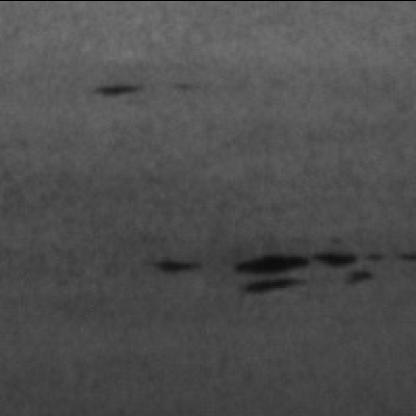inclusion: (235, 250, 416, 298), (90, 79, 150, 108), (146, 256, 210, 283)
